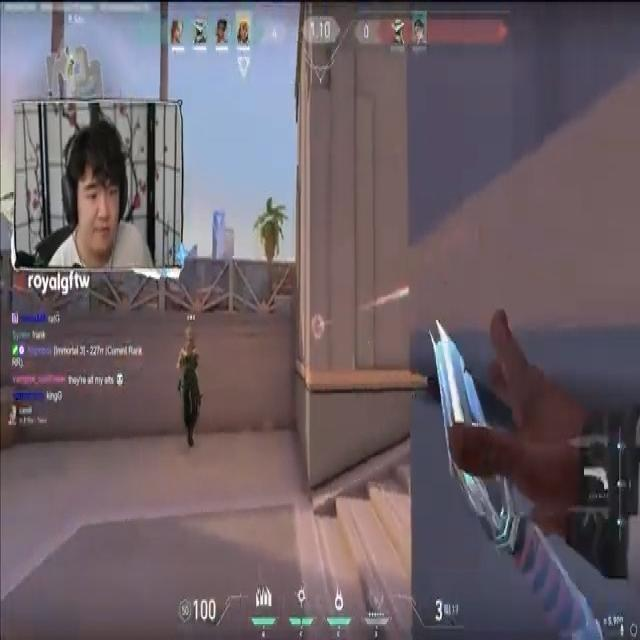ally: (173, 325, 210, 452)
